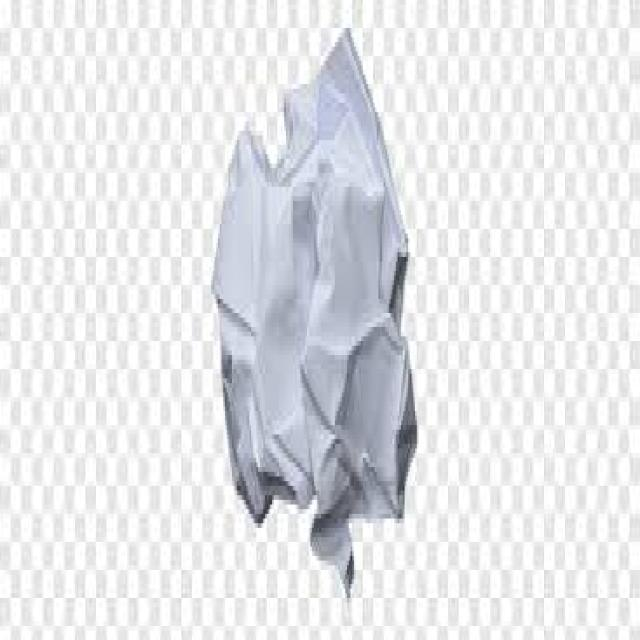crampled paper: (212, 30, 416, 591)
